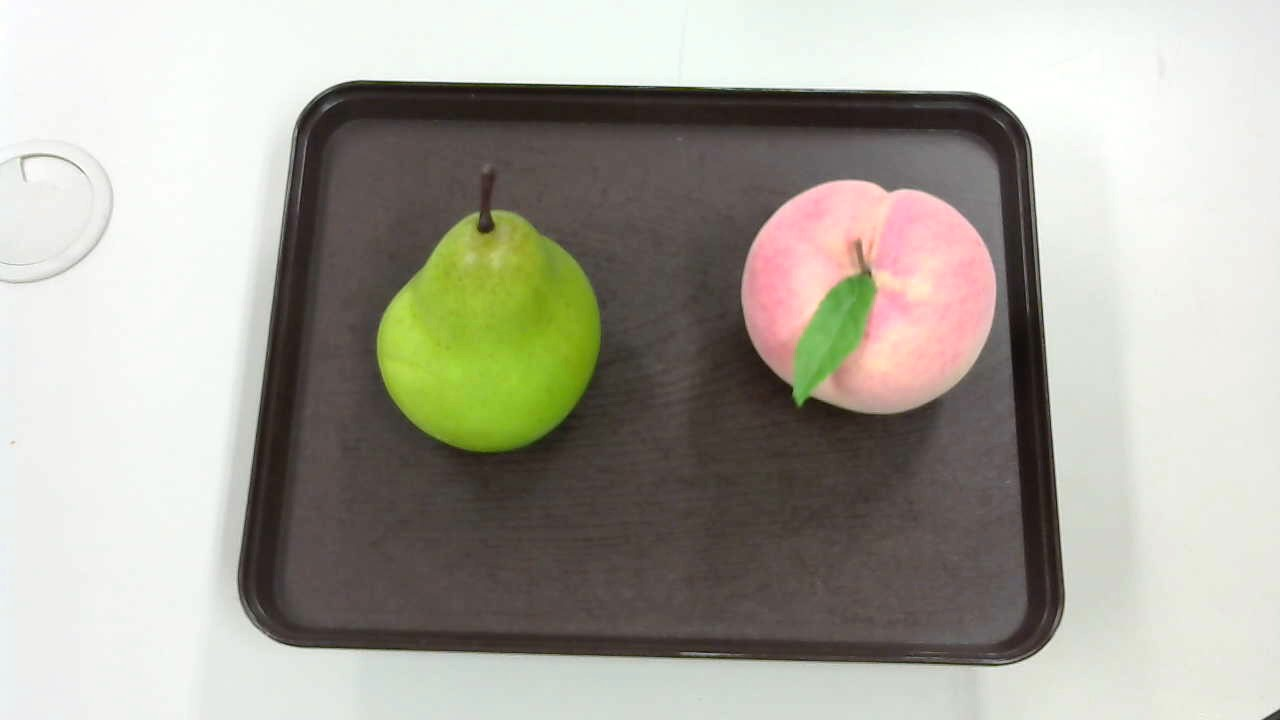green pear: (365, 172, 616, 453)
peach: (738, 177, 995, 418)
